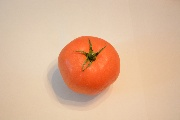tomato: (58, 35, 121, 94)
